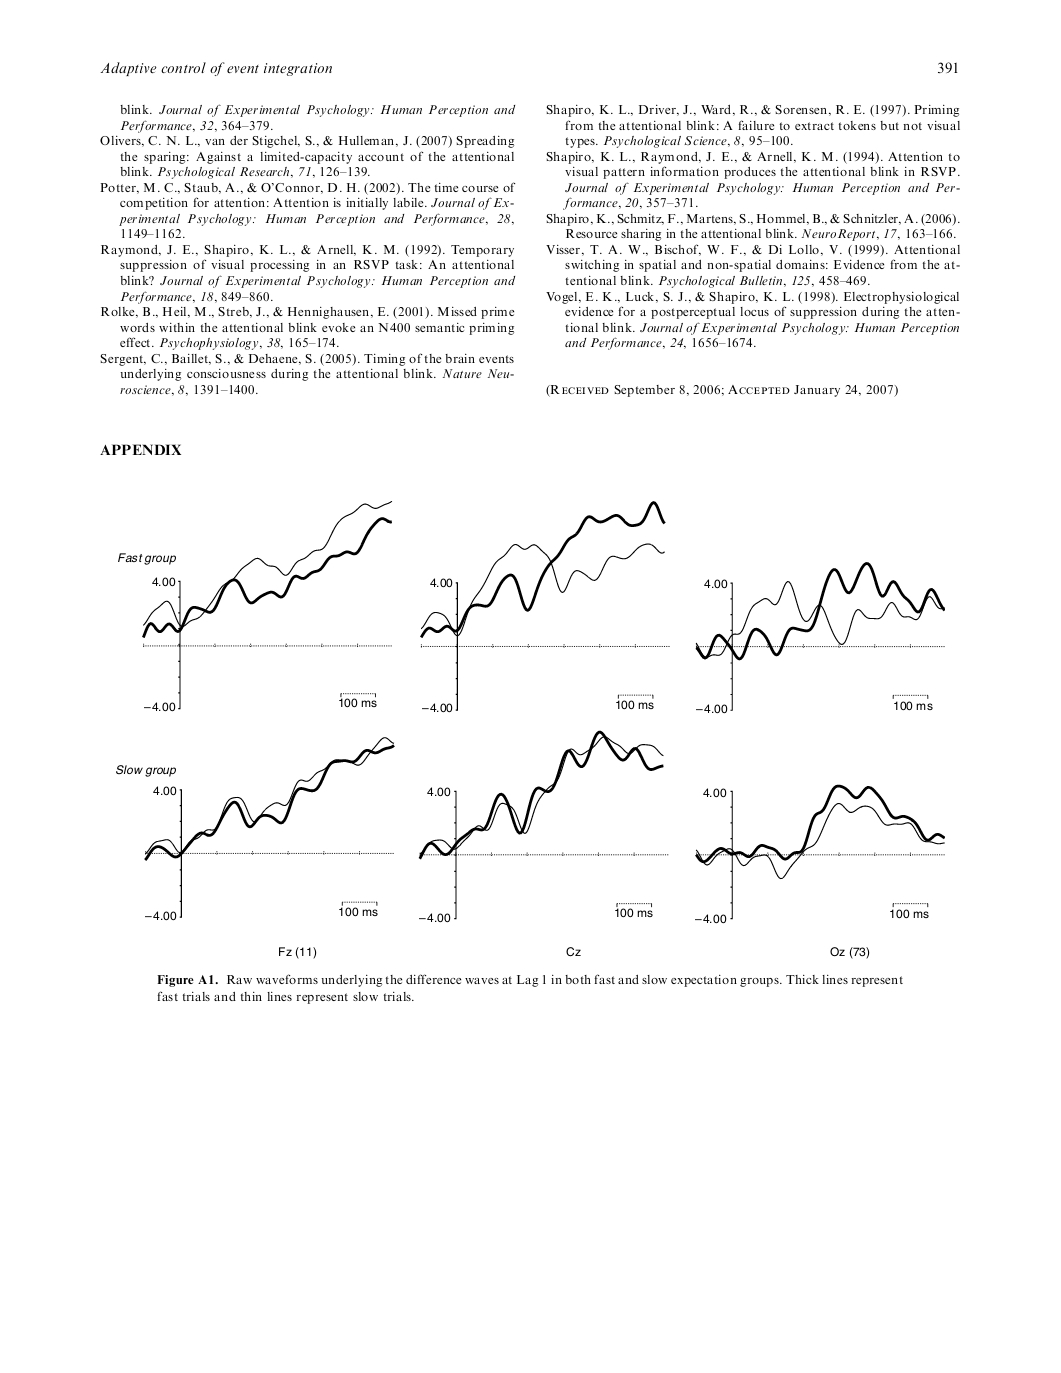figure: (118, 502, 392, 711), (420, 502, 669, 712), (116, 736, 395, 921), (418, 729, 668, 923), (695, 562, 944, 713), (695, 782, 944, 924)
